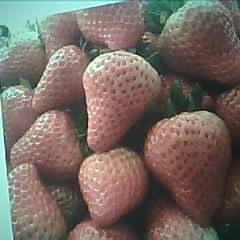straw-ripe: (143, 113, 231, 223), (82, 52, 162, 153), (158, 0, 240, 82), (79, 147, 147, 229), (10, 112, 79, 179)
